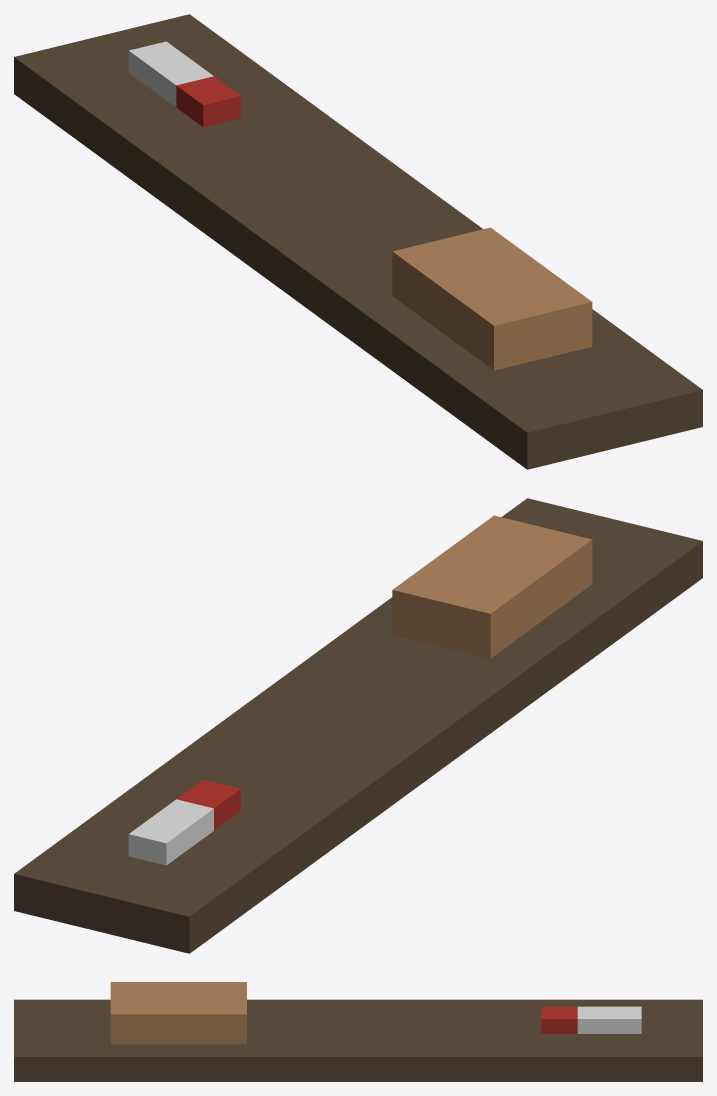
The model's file is SM_BlackboardTools_01.glb.
3 views of the same model, one above another, from view 1: azimuth 30°, elevation 25°; view 2: azimuth 150°, elevation 25°; view 3: azimuth 270°, elevation 25° (orthographic). The views are drawn at different scales.
Parts seen in each view (by area): view 1: SM_BlackboardTools_01; view 2: SM_BlackboardTools_01; view 3: SM_BlackboardTools_01.
Part boxes in pixels (x1=…): SM_BlackboardTools_01: x1=14, y1=14, x2=702, y2=469; SM_BlackboardTools_01: x1=14, y1=498, x2=702, y2=953; SM_BlackboardTools_01: x1=14, y1=982, x2=702, y2=1081.
Size of the model in its own units: 0.1677 by 0.0747 by 0.8492.
Materials: 1 (1 with a texture image).
